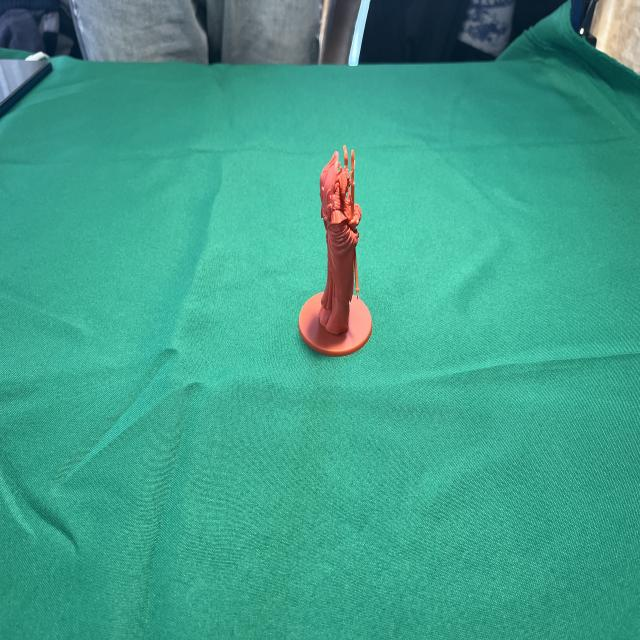amon: (293, 140, 375, 363)
